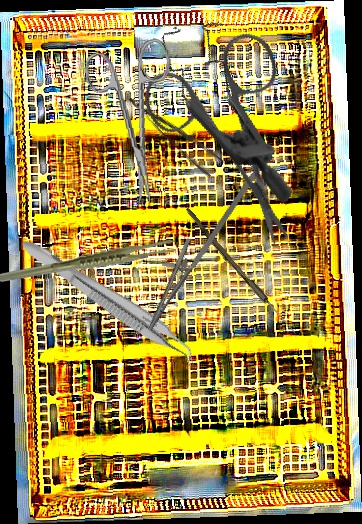Dressing Forceps: (127, 83, 225, 180)
Iris Scissors: (110, 5, 352, 250), (81, 36, 186, 211)
Needle Holder: (133, 133, 271, 342)
Speculum: (120, 1, 346, 205)
Surgical Spoon: (182, 207, 300, 337)
Tissue Forceps: (12, 235, 206, 371), (0, 239, 176, 283)
